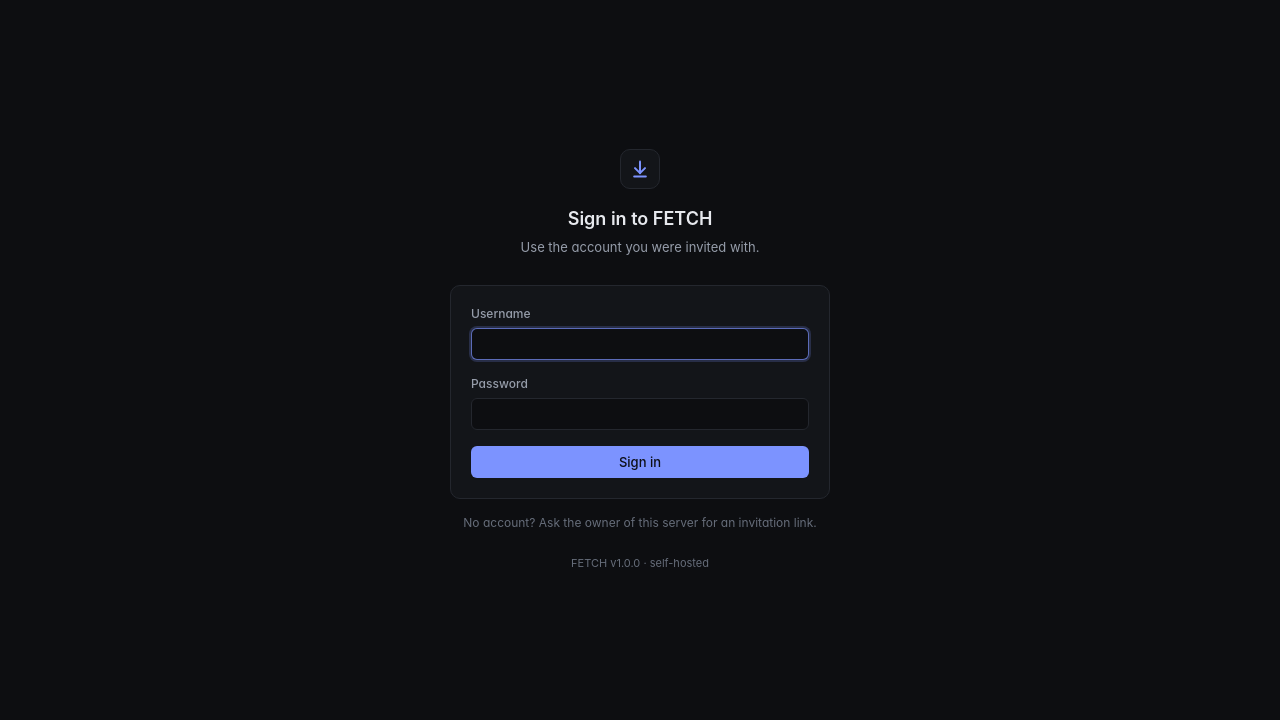
Test: authentication › redirects to the sign-in page, signs in and then sends the CSRF token
This screenshot has width=1280, height=720.
Expected: the heading "Sign in to FETCH" is shown, [568, 205, 712, 233]
Expected: the text "Ask the owner of this server for an invitation link" is shown, [463, 515, 817, 530]
Type "bob" into the field labelled "Username" at x=640, y=344, box [471, 328, 809, 360]
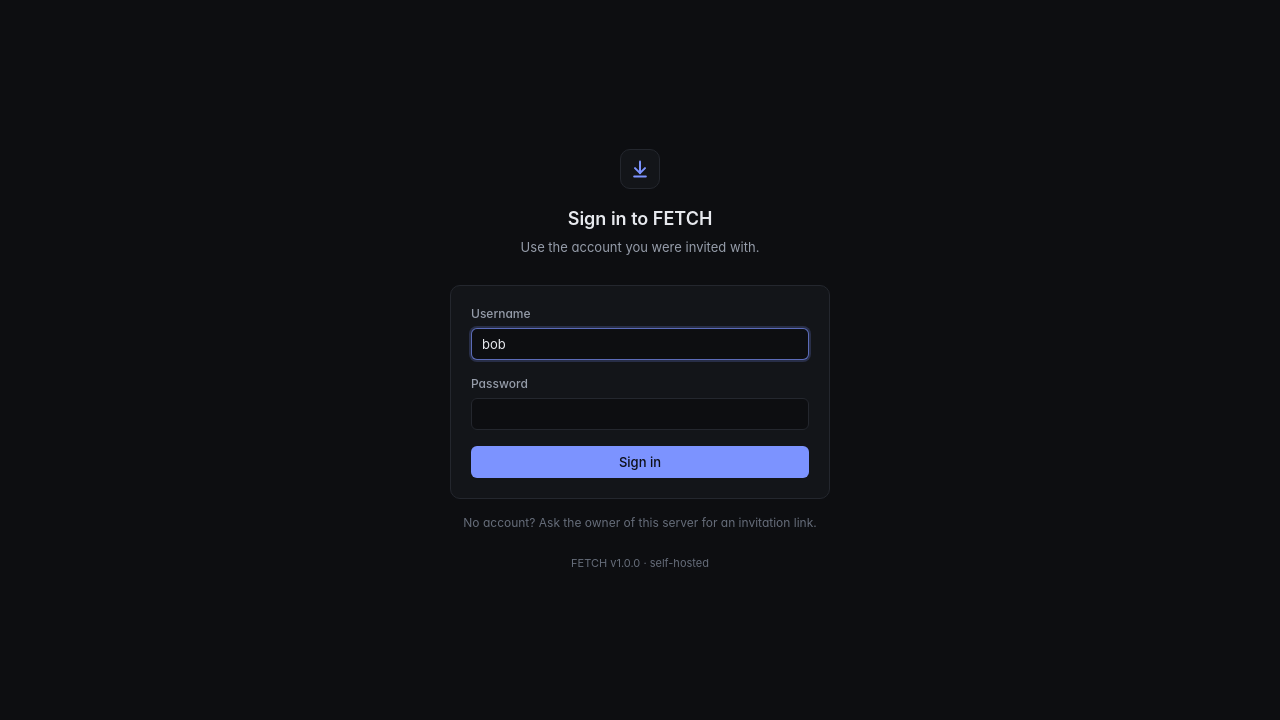
Type "correct horse battery" into the password field labelled "Password" at x=640, y=414, box [471, 398, 809, 430]
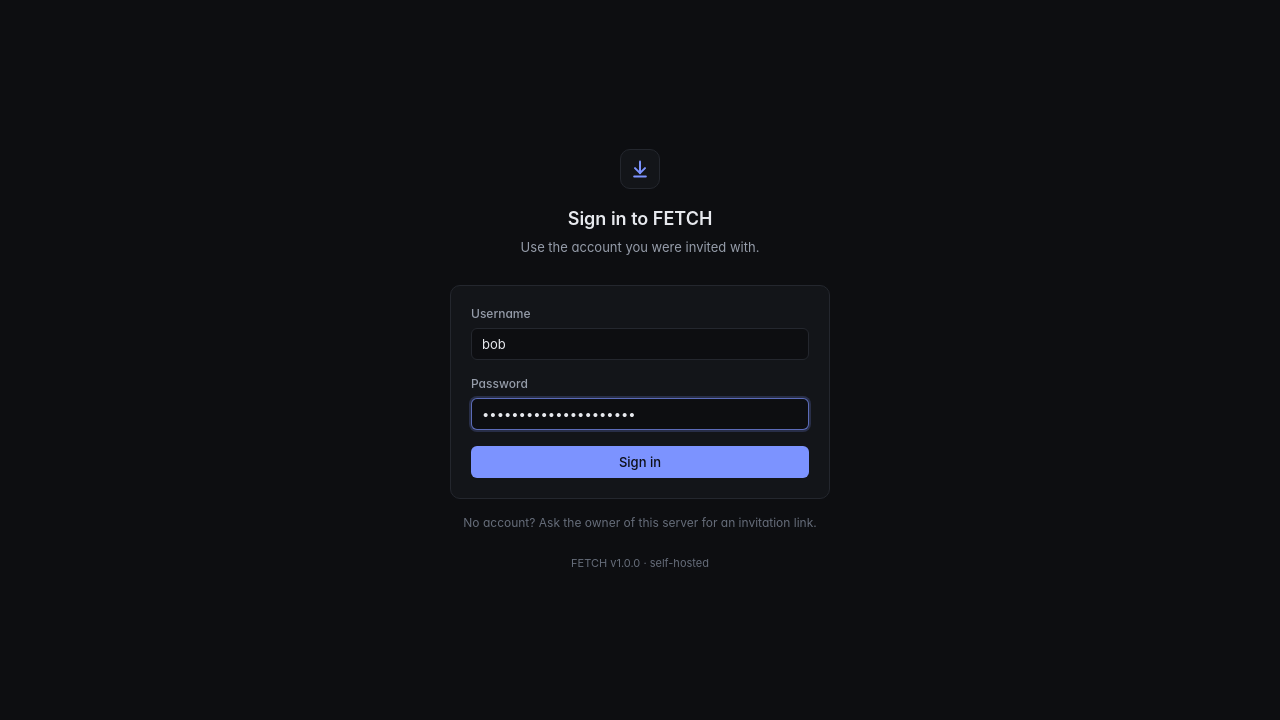
Click the button "Sign in" at x=640, y=462, box [471, 446, 809, 478]
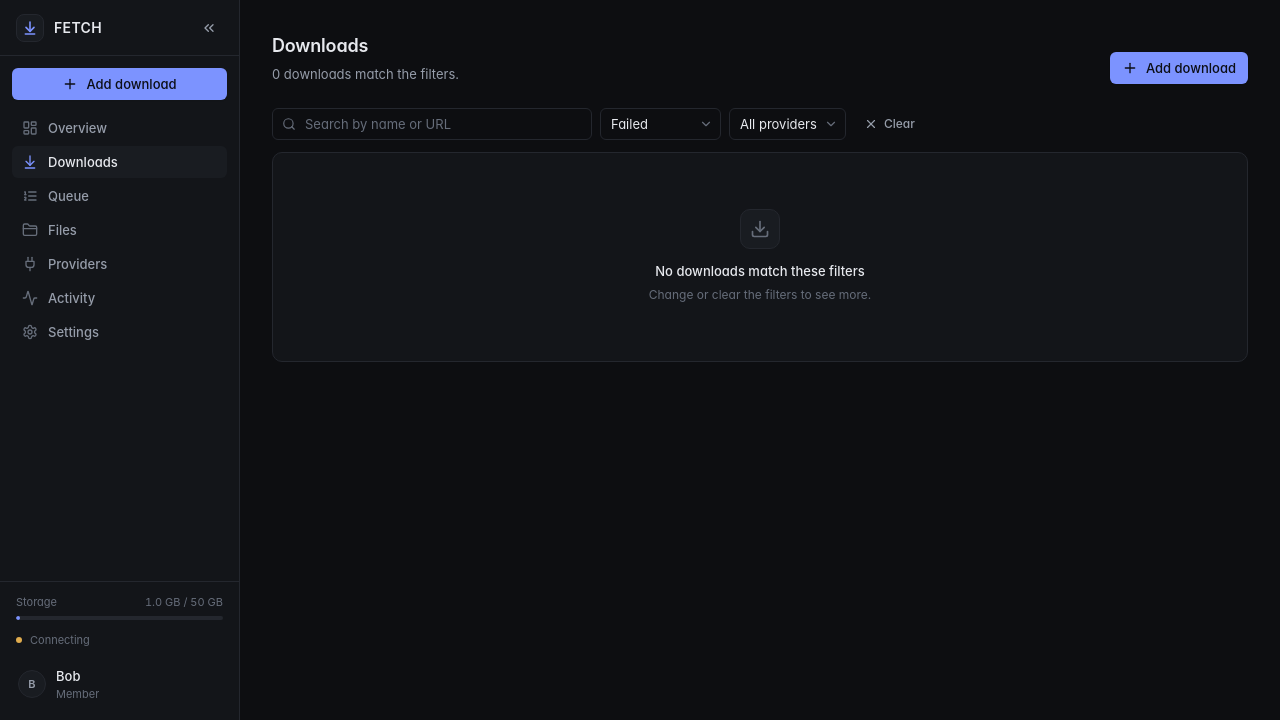
Result: the heading "Downloads" is shown at [272, 35, 368, 56]
Click the button with aria-label "Account menu" at x=120, y=684, box [12, 660, 227, 708]
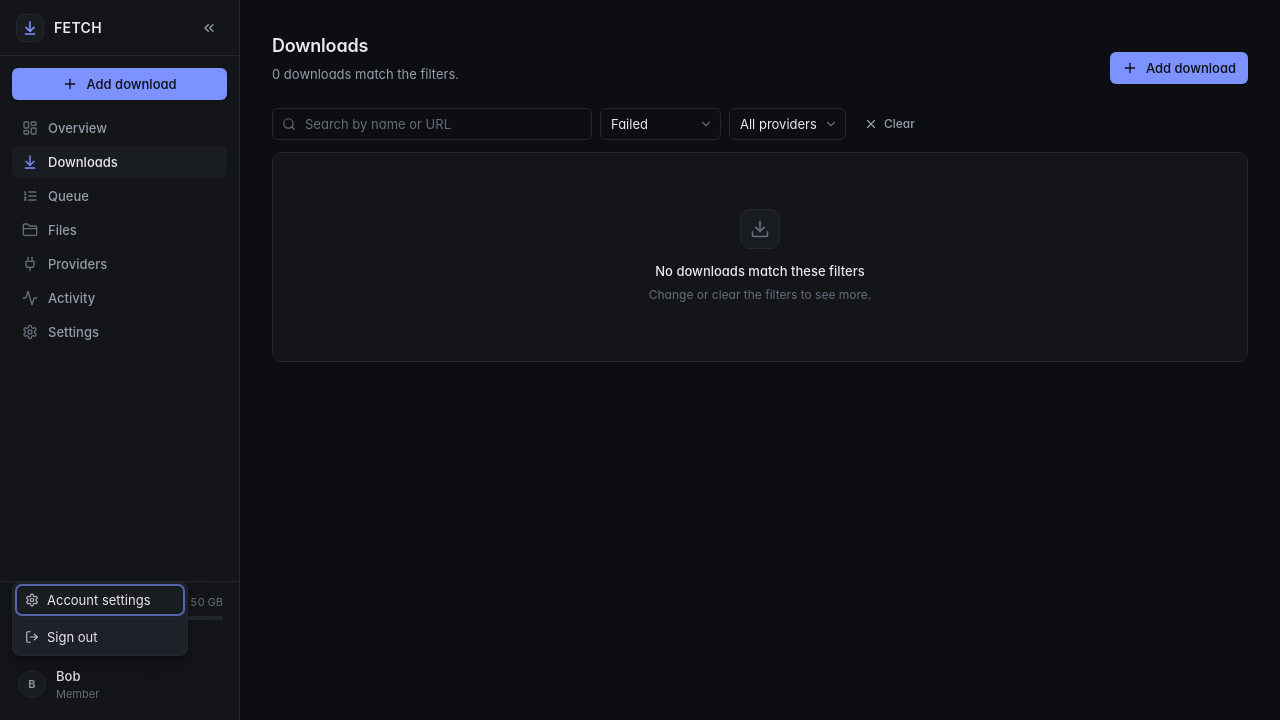
Click the menu item "Sign out" at x=100, y=637, box [17, 623, 183, 651]
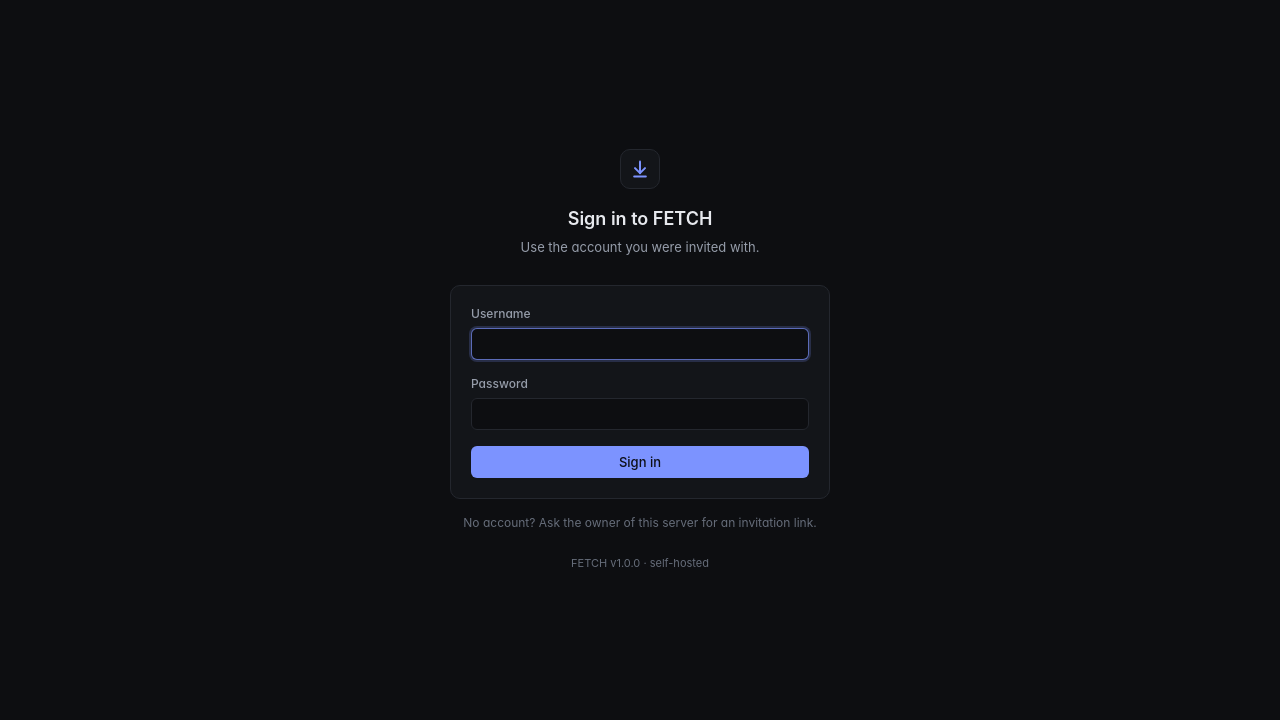
Result: the heading "Sign in to FETCH" is shown at [568, 205, 712, 233]
